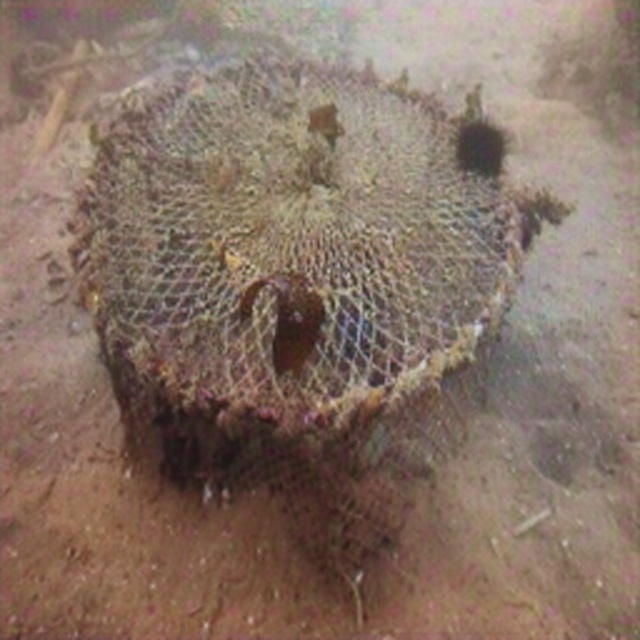mine: (72, 56, 521, 598)
